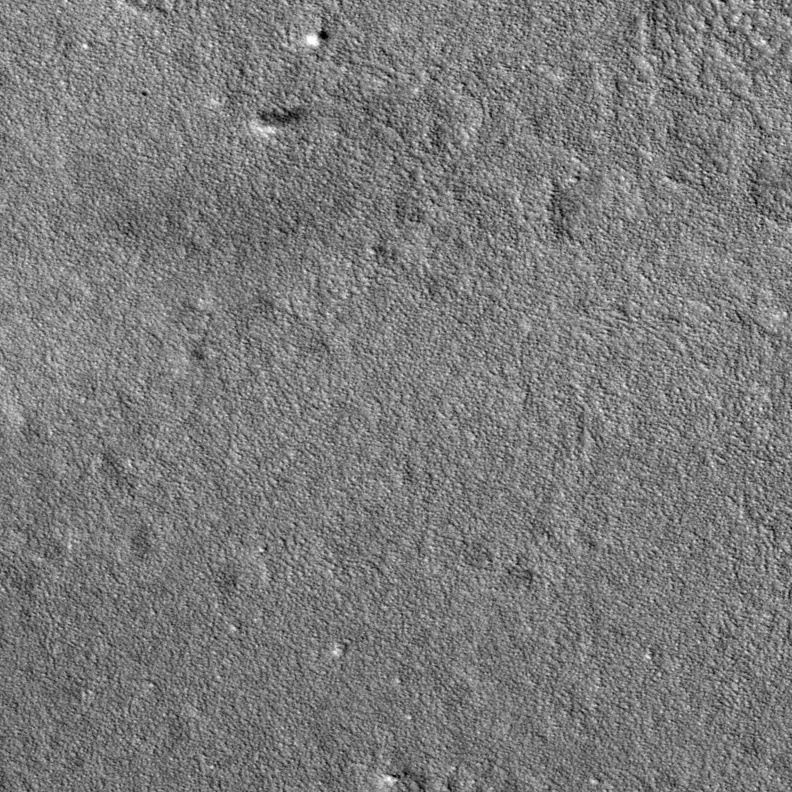dust_devil: (247, 104, 309, 138)
